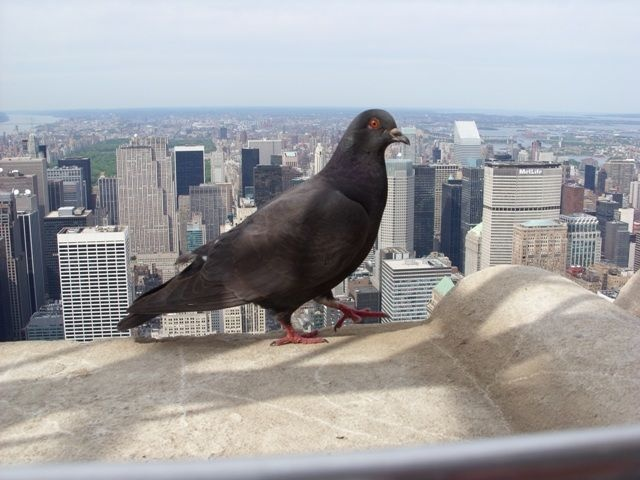Pigeon: (115, 105, 420, 347)
